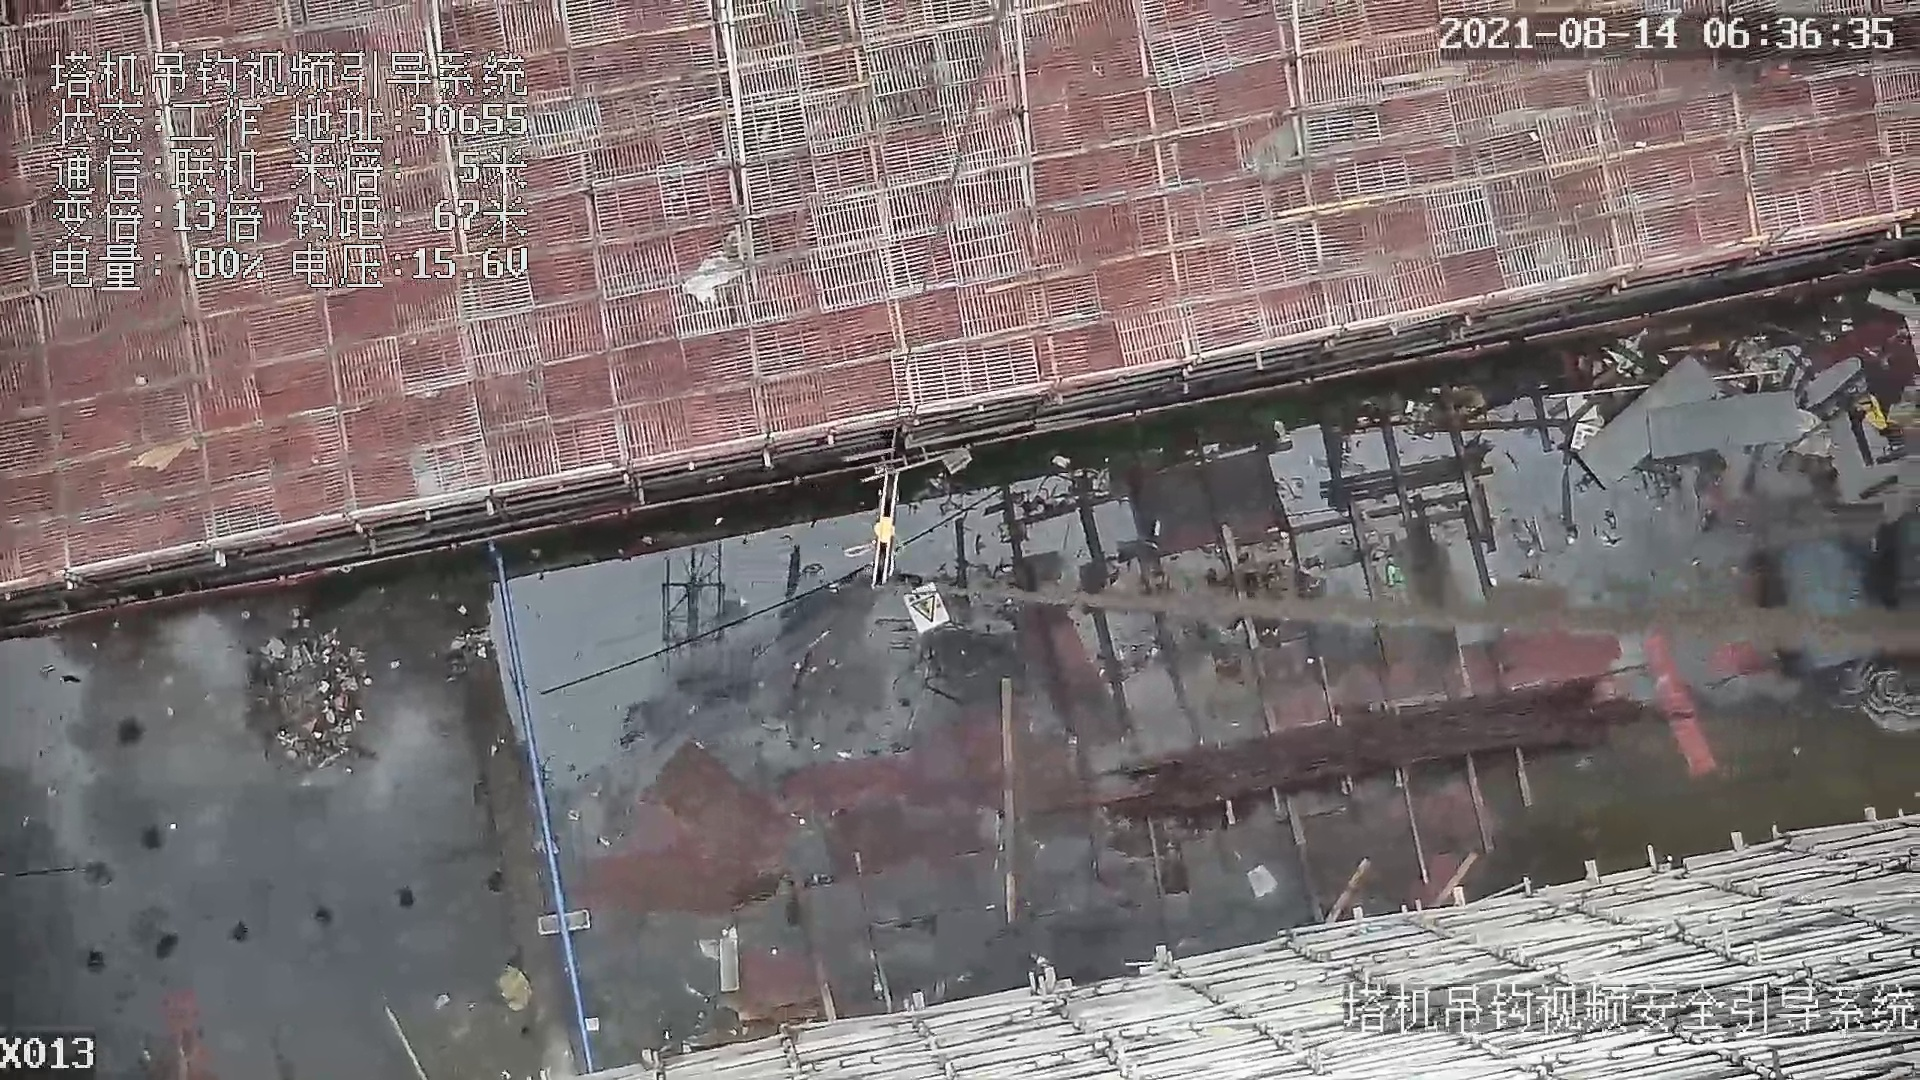hook: (847, 477, 909, 585)
